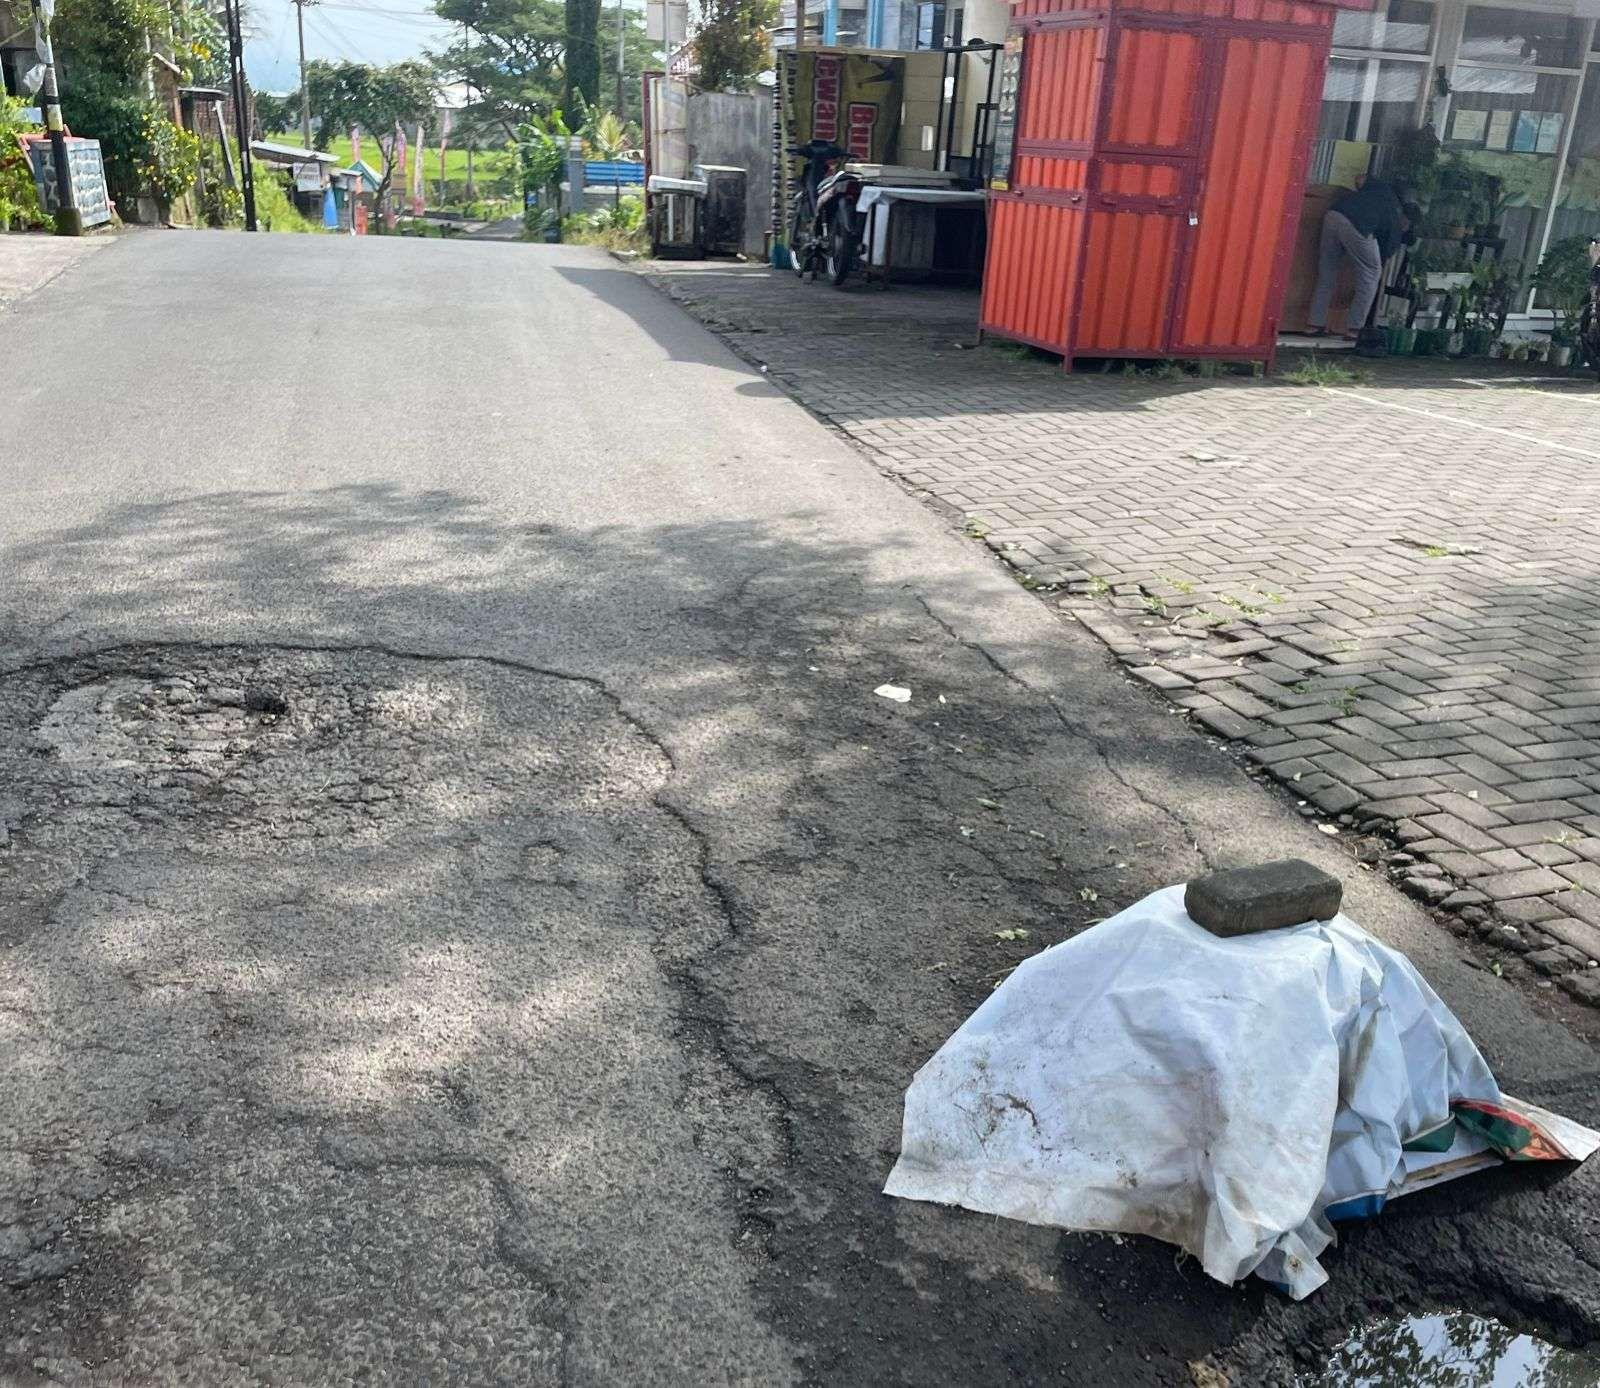Pothole: (0, 542, 514, 850), (0, 1027, 248, 1388), (1152, 1217, 1600, 1388), (1016, 523, 1321, 704), (1278, 772, 1537, 942)
